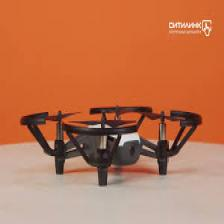drone: (22, 103, 203, 180)
